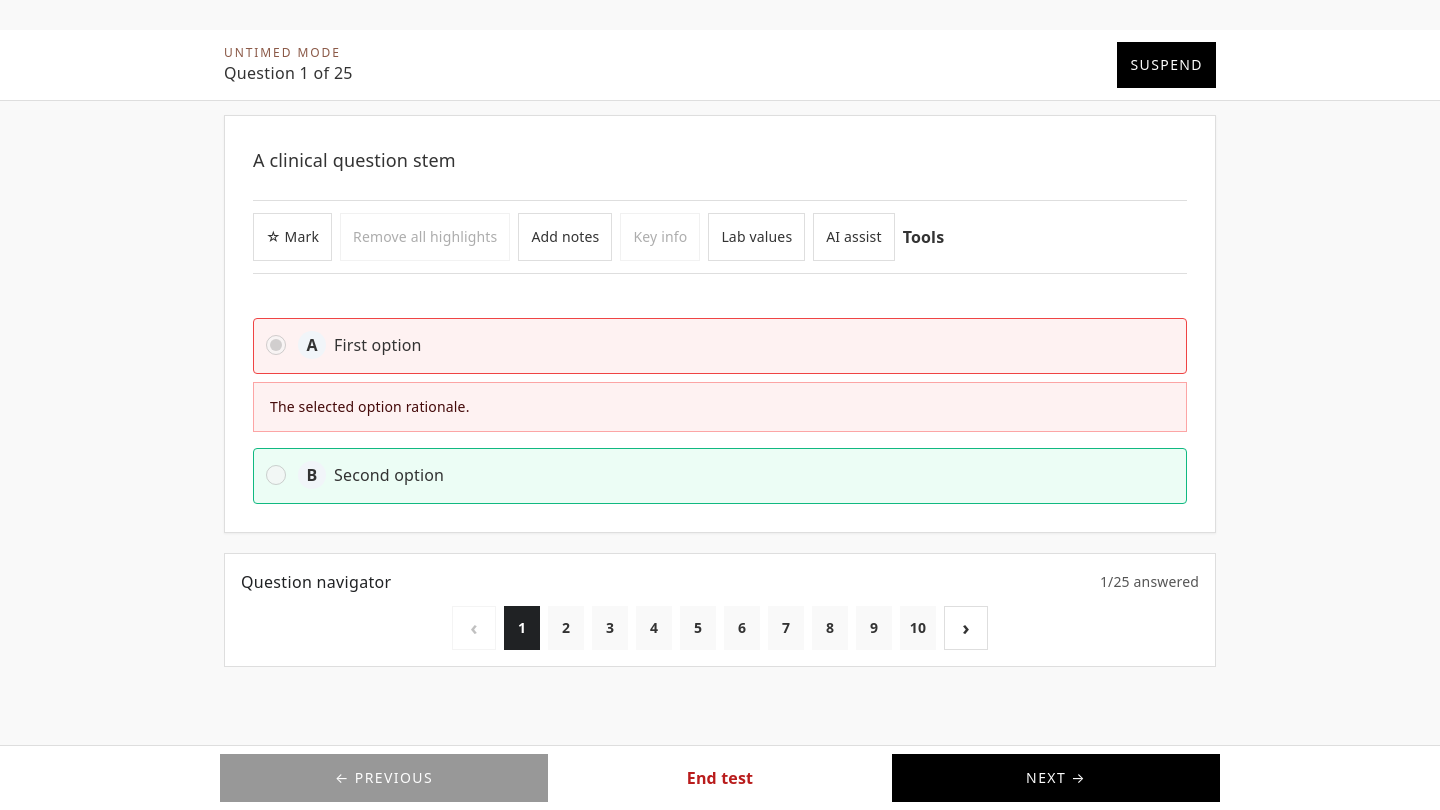
Test: QuestionPlayer navigation and feedback › uses an in-app yes-or-no dialog to confirm ending the test
Click the button "End test". click: {"x": 720, "y": 778}
box: x1=556 y1=754 x2=884 y2=802
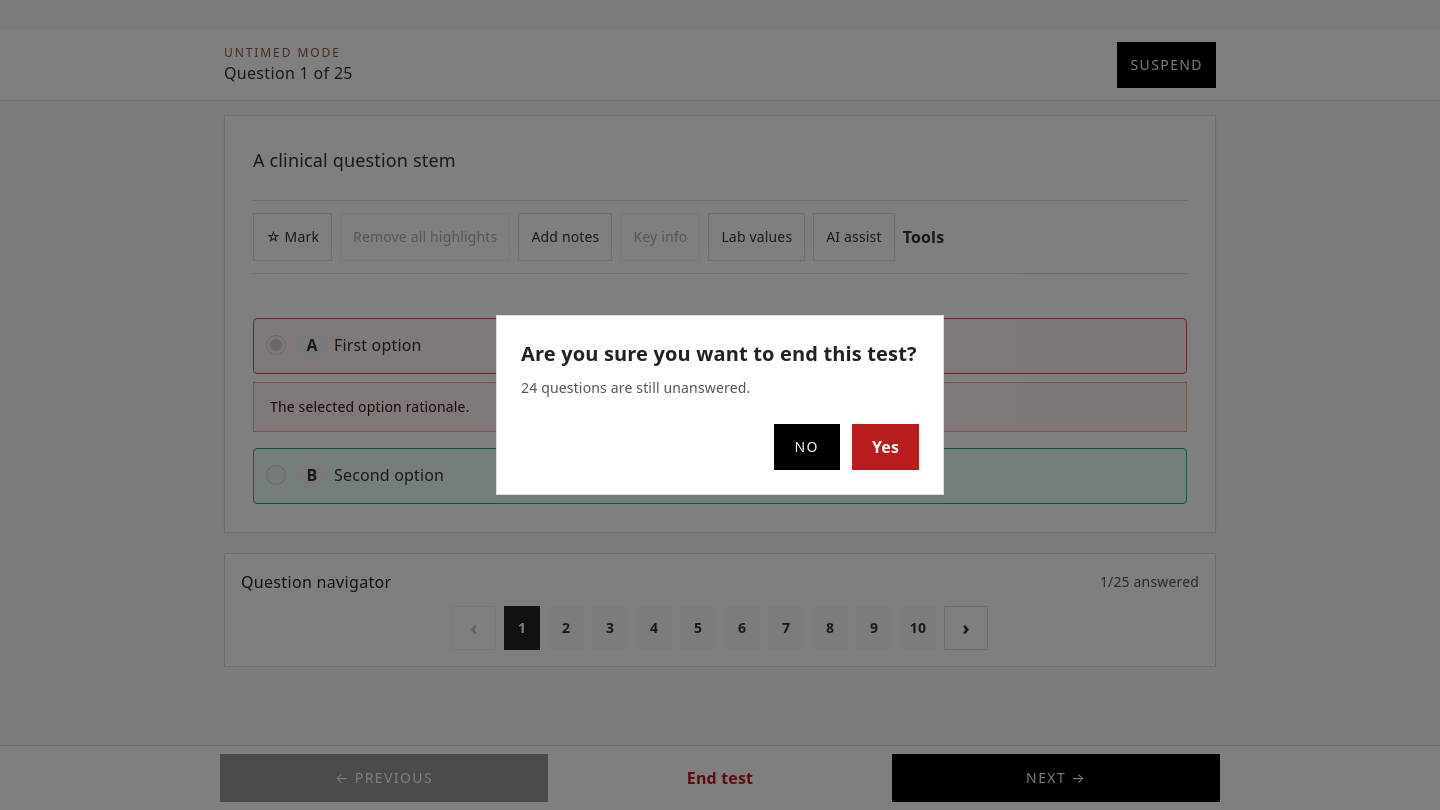
Result: the dialog is shown
Result: the heading "Are you sure you want to end this test?" is shown at x1=521 y1=340 x2=919 y2=368
Result: the button "Yes" is shown at x1=852 y1=424 x2=919 y2=470
Click the button "No". click: {"x": 807, "y": 447}
box: x1=774 y1=424 x2=840 y2=470
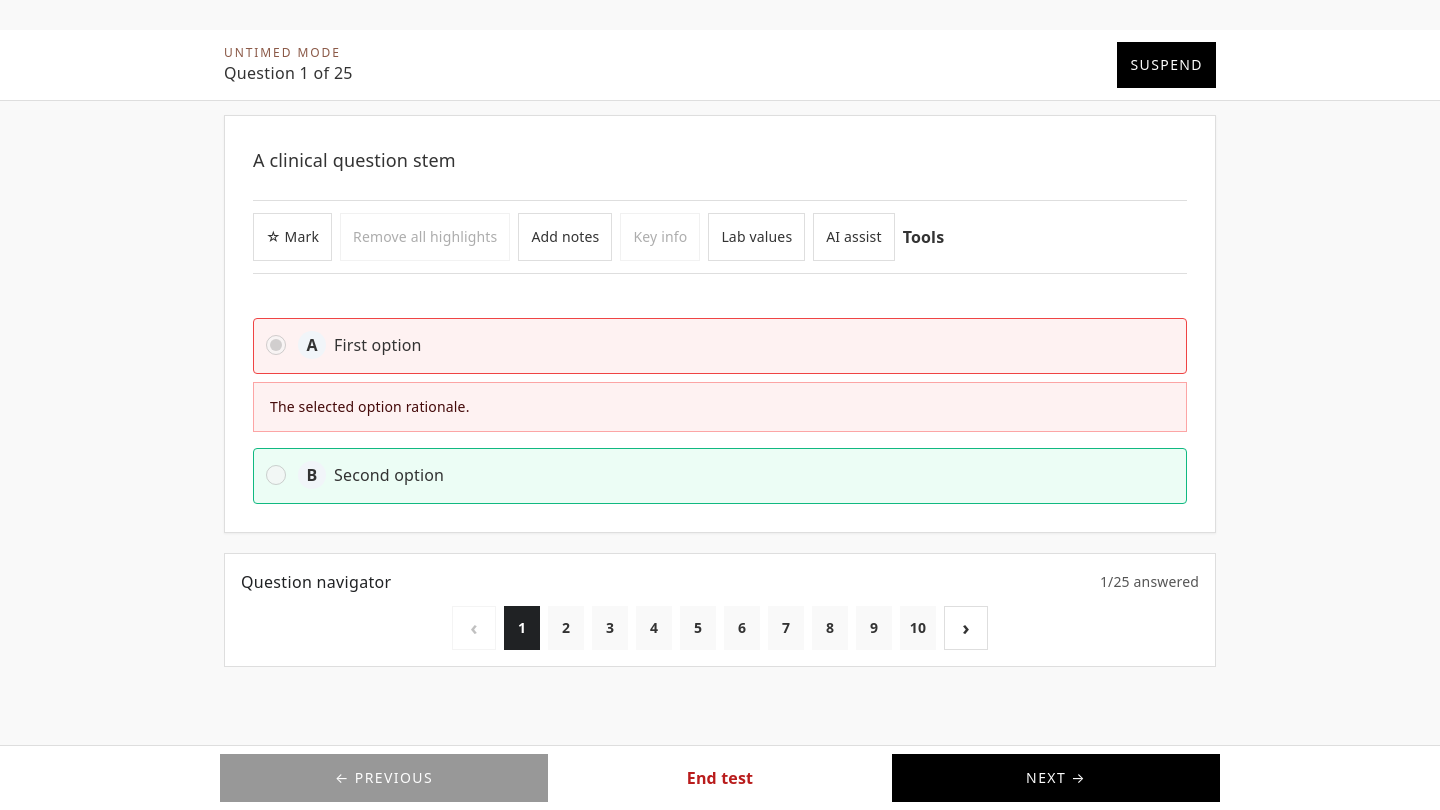
Result: the dialog is gone
